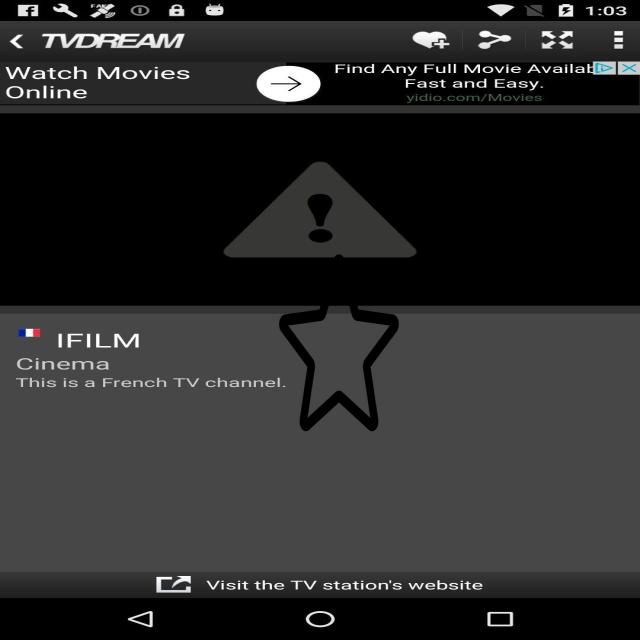forced continuity: (279, 250, 399, 435)
